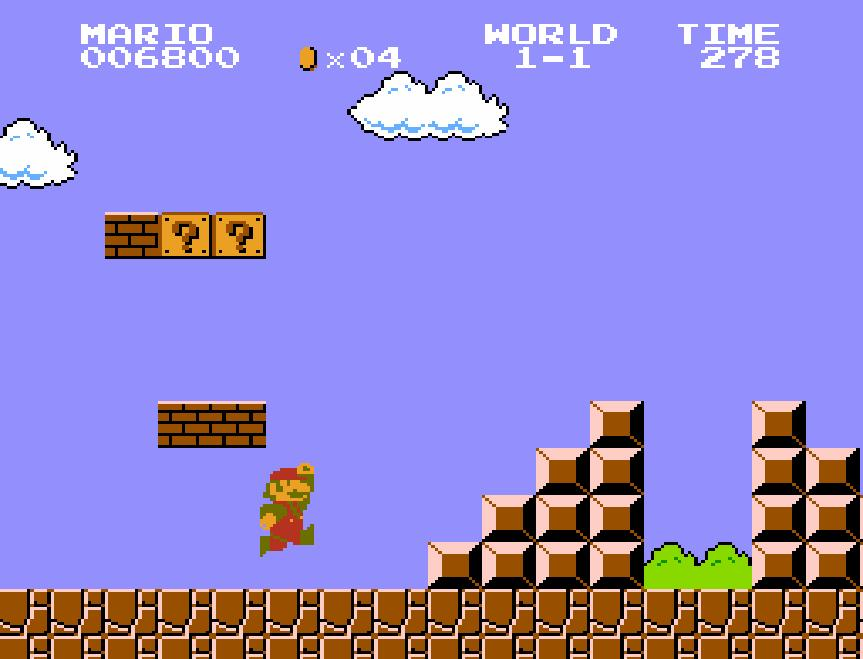big_mario: (257, 461, 315, 559)
